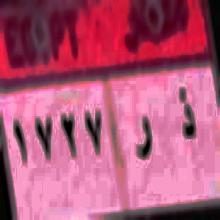1: (12, 113, 29, 174)
2: (59, 112, 80, 166)
7: (84, 106, 106, 166), (35, 112, 55, 170)
raa: (135, 106, 155, 175)
zaal: (177, 80, 199, 153)
